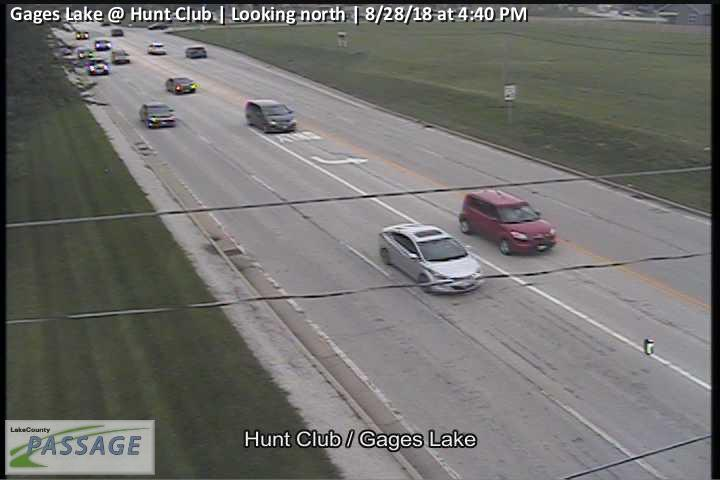SUV: (459, 189, 558, 256), (246, 99, 297, 134), (87, 59, 108, 76), (185, 47, 206, 58), (148, 42, 165, 54), (149, 22, 168, 30)
Sedan: (378, 222, 483, 293), (140, 103, 176, 126), (166, 78, 196, 93), (113, 50, 129, 63), (76, 47, 93, 57), (95, 40, 110, 50), (75, 31, 89, 39), (111, 29, 122, 36)
